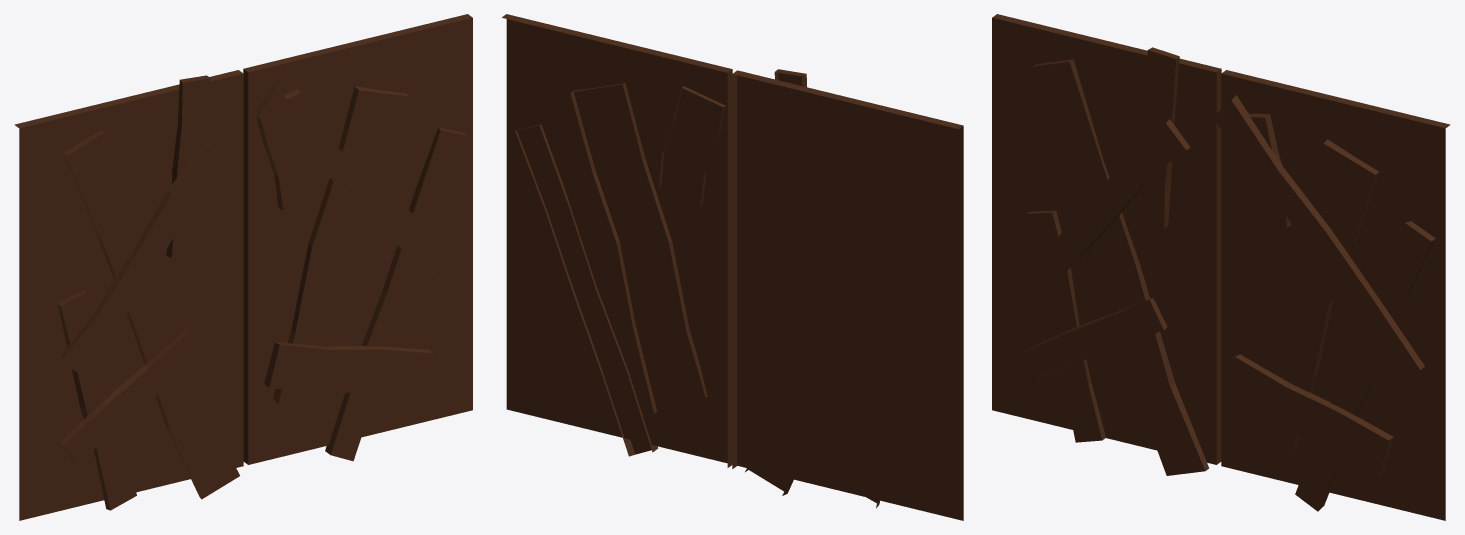
Rendered from door.fbx.
The picture shows the model from 3 angles, left to right: view 1: azimuth 30°, elevation 25°; view 2: azimuth 150°, elevation 25°; view 3: azimuth 330°, elevation 25°; orthographic projection.
Visible parts, largest first — view 1: mine_door; view 2: mine_door; view 3: mine_door.
Boxes of the visible parts, x1,y1,x2,y2 form: mine_door: (14, 14, 472, 520); mine_door: (502, 14, 963, 520); mine_door: (992, 14, 1450, 520).
Bounding box in the file's own units: 489 × 434 × 26.97.
